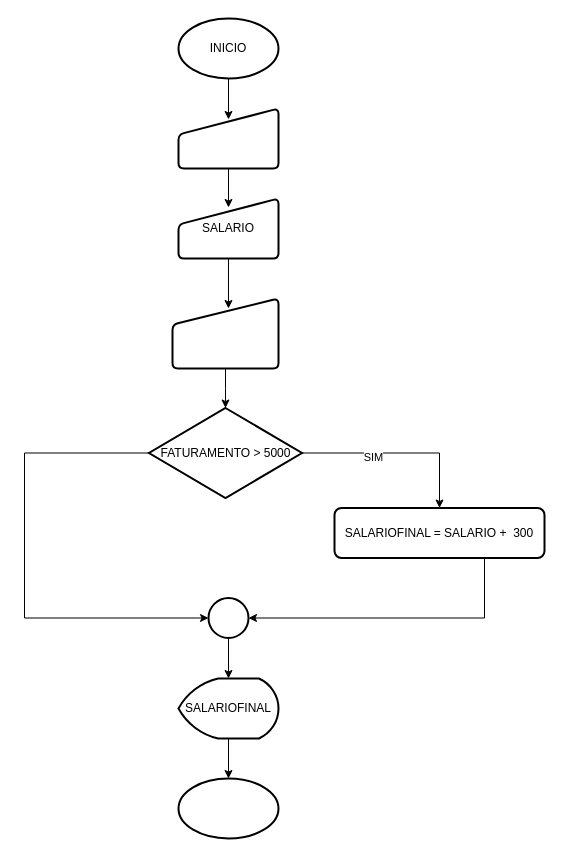
This 563x856 diagram has some shape labels left out. The centre of each missing label's shape, as x and y in pixels:
"FATURAMENTO" belongs at [225,333].
"FIM" belongs at [228,808].
"NOME" belongs at [228,138].
